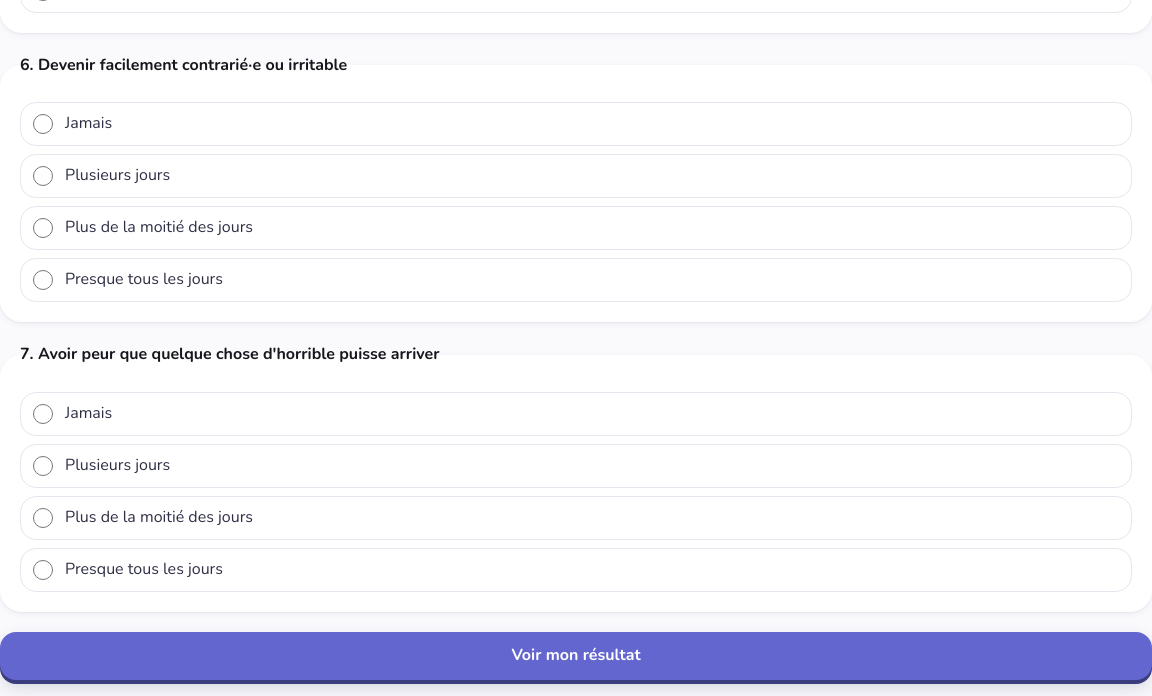
Test: AssessmentRunner - accessibilité & soumission › exige toutes les réponses avant de soumettre
(page scrolled)
Click the button "Voir mon résultat" at (576, 656), box 0,632 -> 1151,680
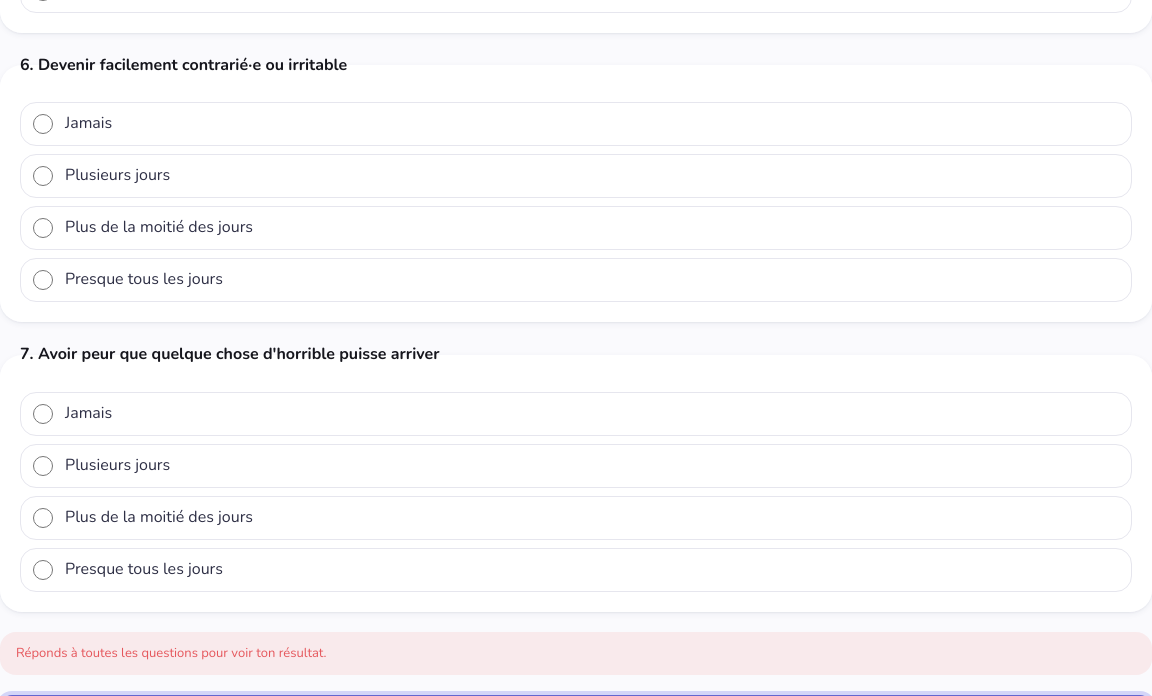
Expected: the message shows "toutes les questions", 16,644 -> 327,662
